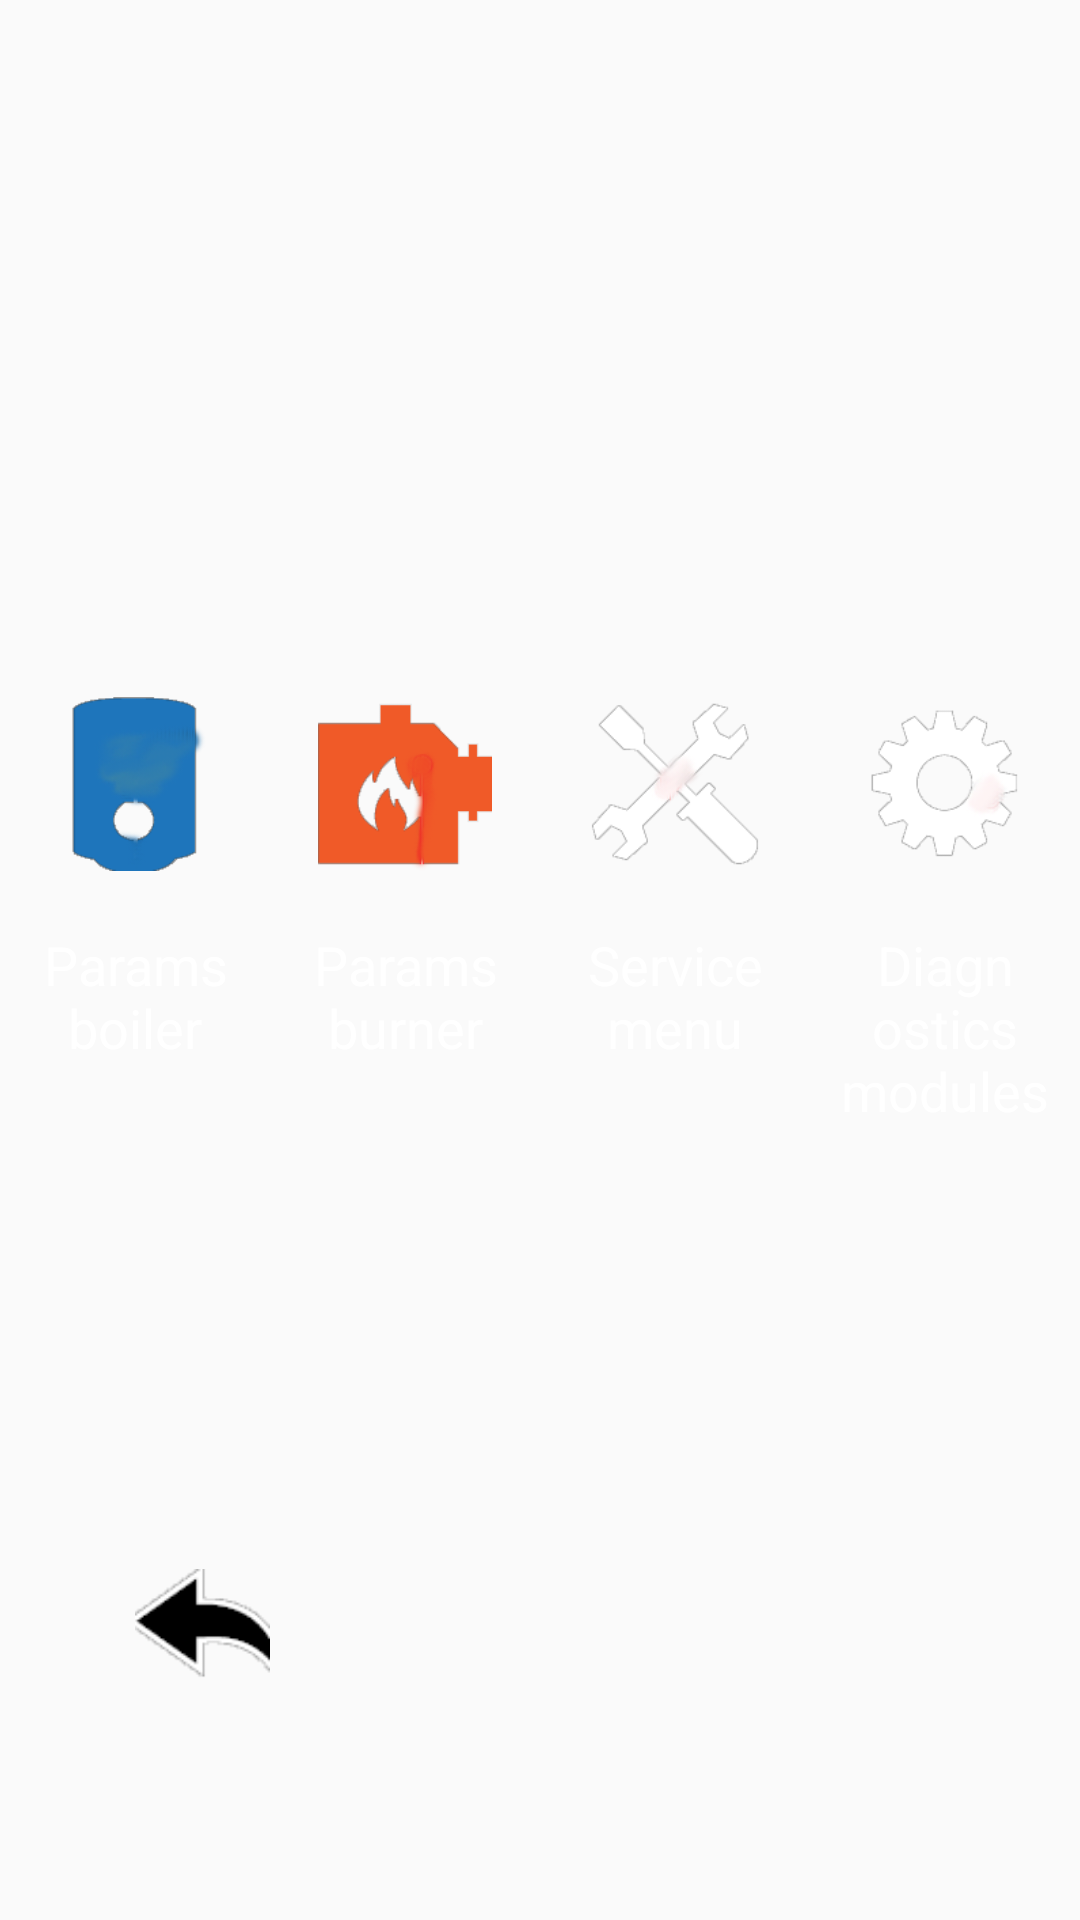

Named icons in this screenshot (1080px x 1920px) and their centers, (x=x, y=y):
back: (x=202, y=1623)
